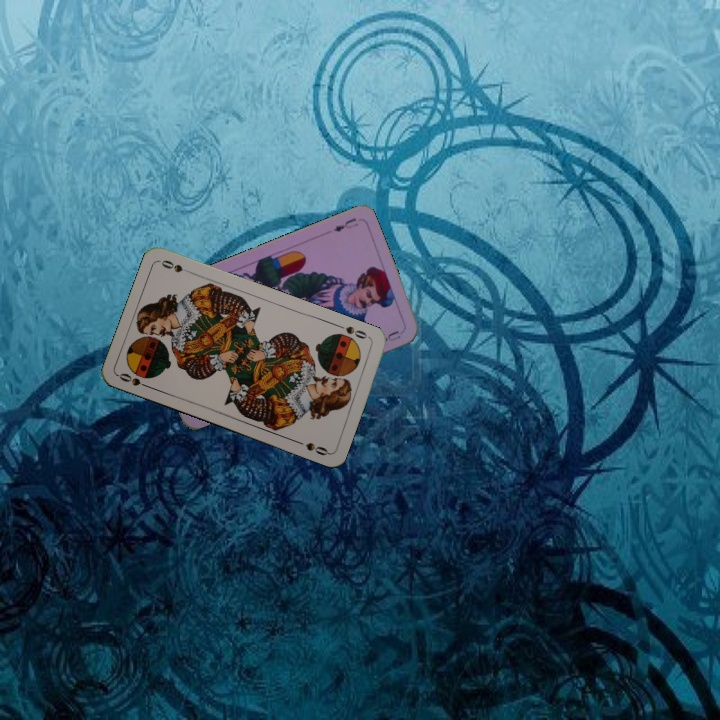EU: (329, 213, 360, 234)
SO: (115, 369, 154, 391), (341, 322, 373, 342)
